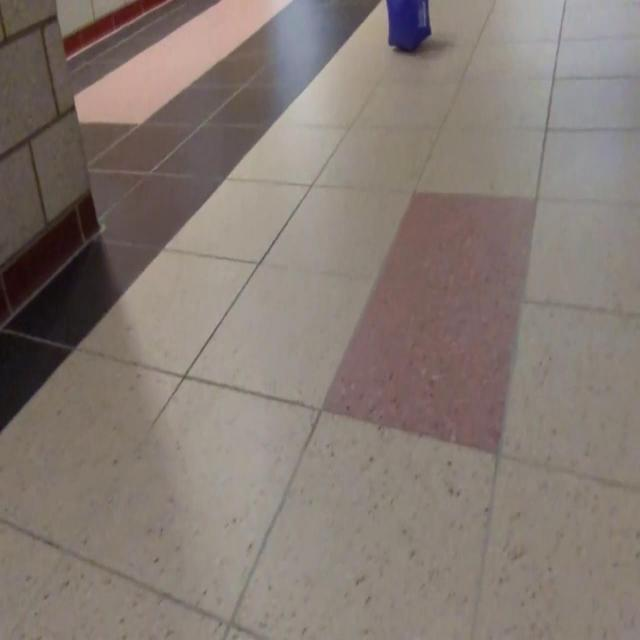frc_cube: (387, 0, 431, 52)
